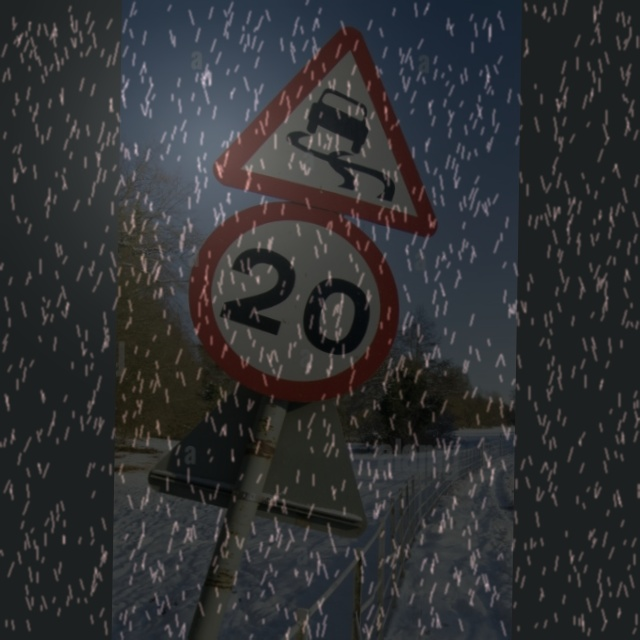Slippery_Road: (219, 26, 436, 223)
